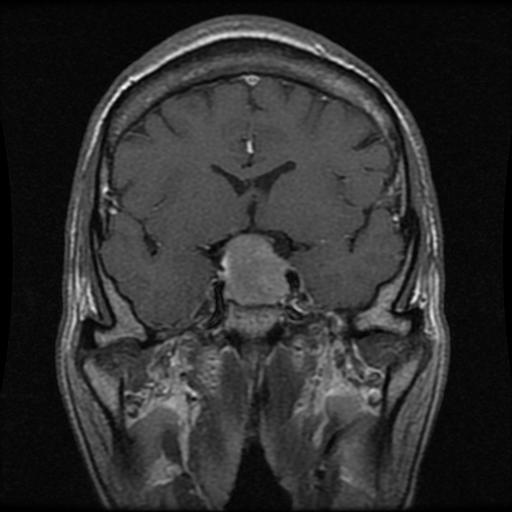Pituirity_tumour: (225, 234, 287, 303)
